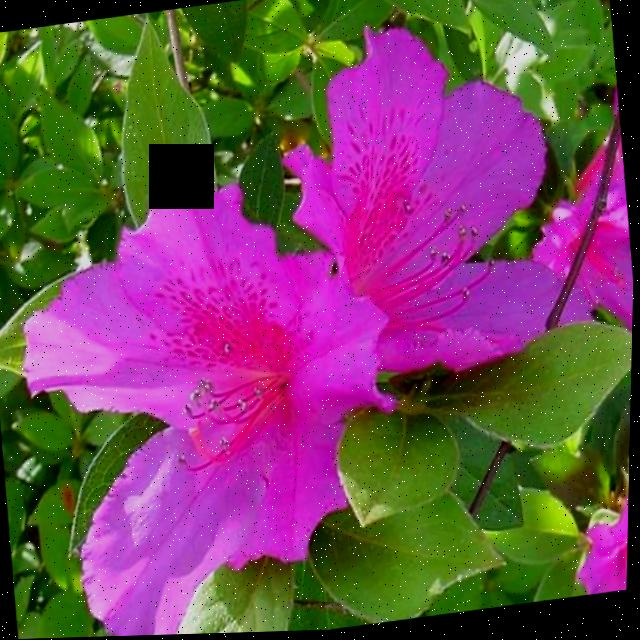azalea: (0, 180, 398, 640), (231, 0, 640, 405)
